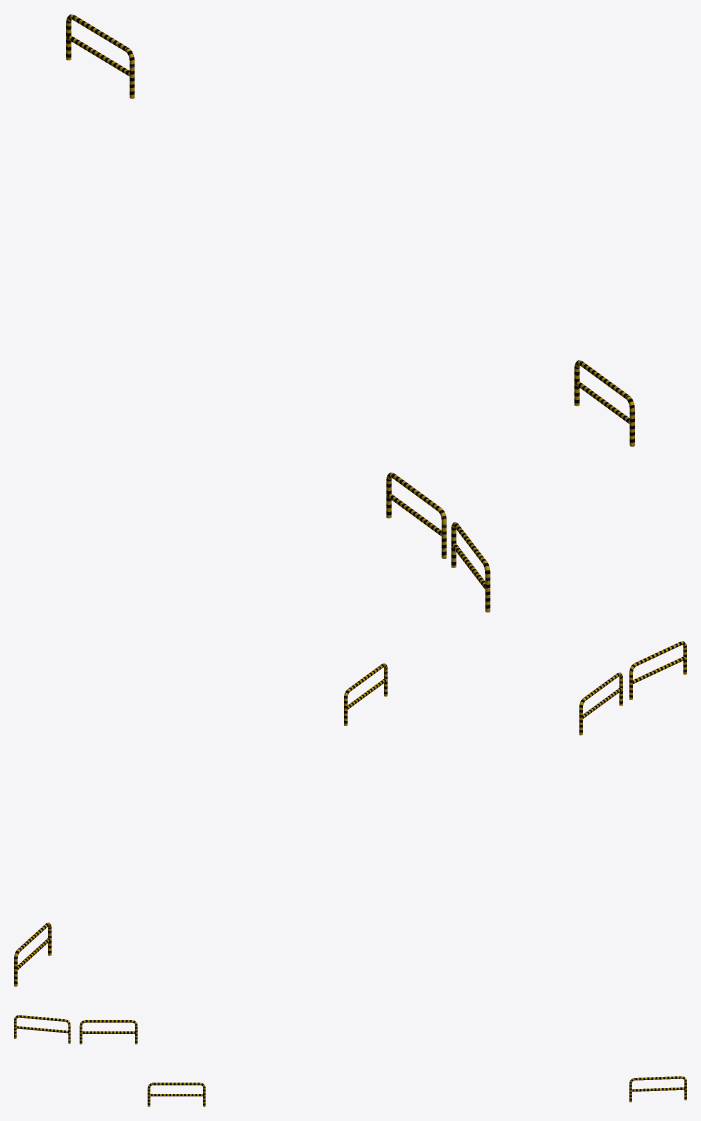
File: Fence.obj
The picture shows the model from 3 angles, top to bottom: view 1: azimuth 30°, elevation 25°; view 2: azimuth 150°, elevation 25°; view 3: azimuth 270°, elevation 25°; orthographic projection. The views are drawn at different scales.
Visible parts, largest first — view 1: Fence; view 2: Fence; view 3: Fence.
Boxes of the visible parts, x1,y1,x2,y2 form: Fence: [66, 14, 634, 612]; Fence: [14, 641, 686, 986]; Fence: [14, 1015, 686, 1106].
Size of the model in its own units: 8.1 by 1.29 by 33.41.
Materials: 1 (1 with a texture image).
